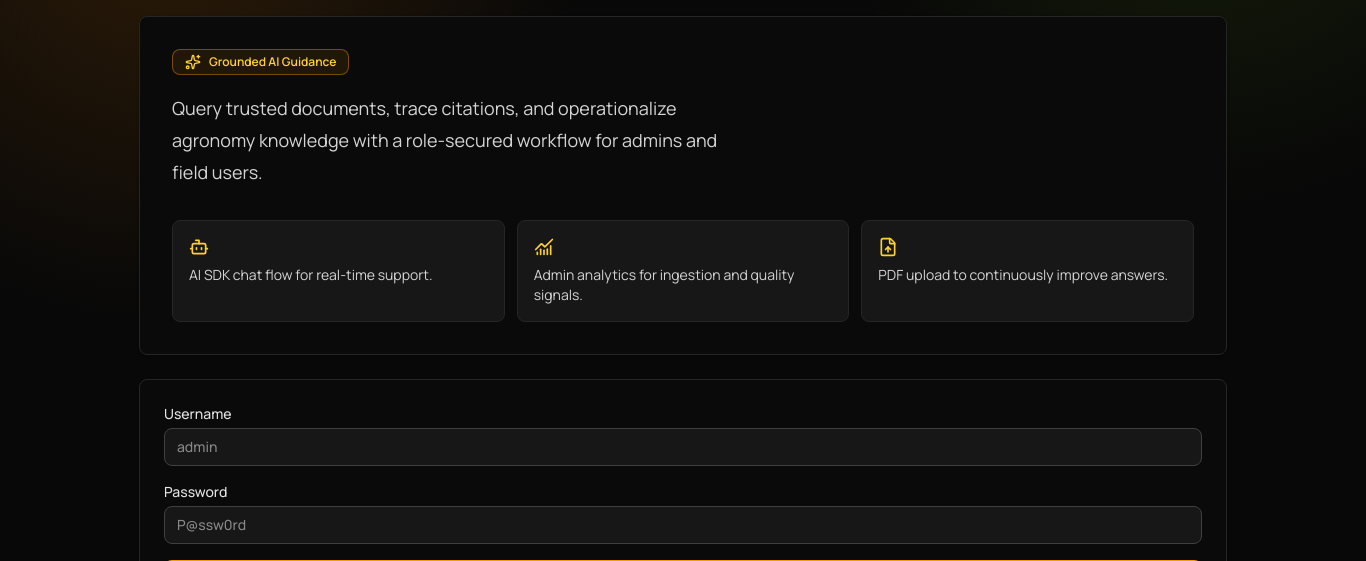
App › routes backend user-role users to chat and history in the same view
Type "field-user" into the field labelled "Username". click: {"x": 683, "y": 447}
box: 164,428 -> 1202,466
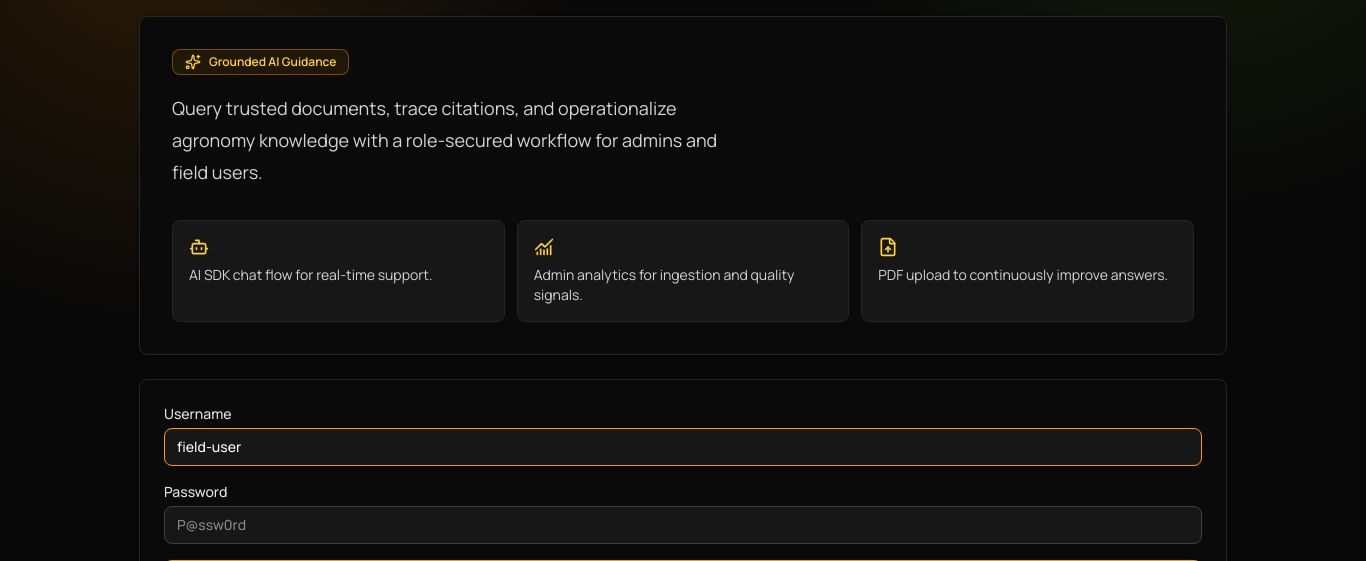
Type "secret" into the password field labelled "Password". click: {"x": 683, "y": 525}
box: 164,506 -> 1202,544
(page scrolled)
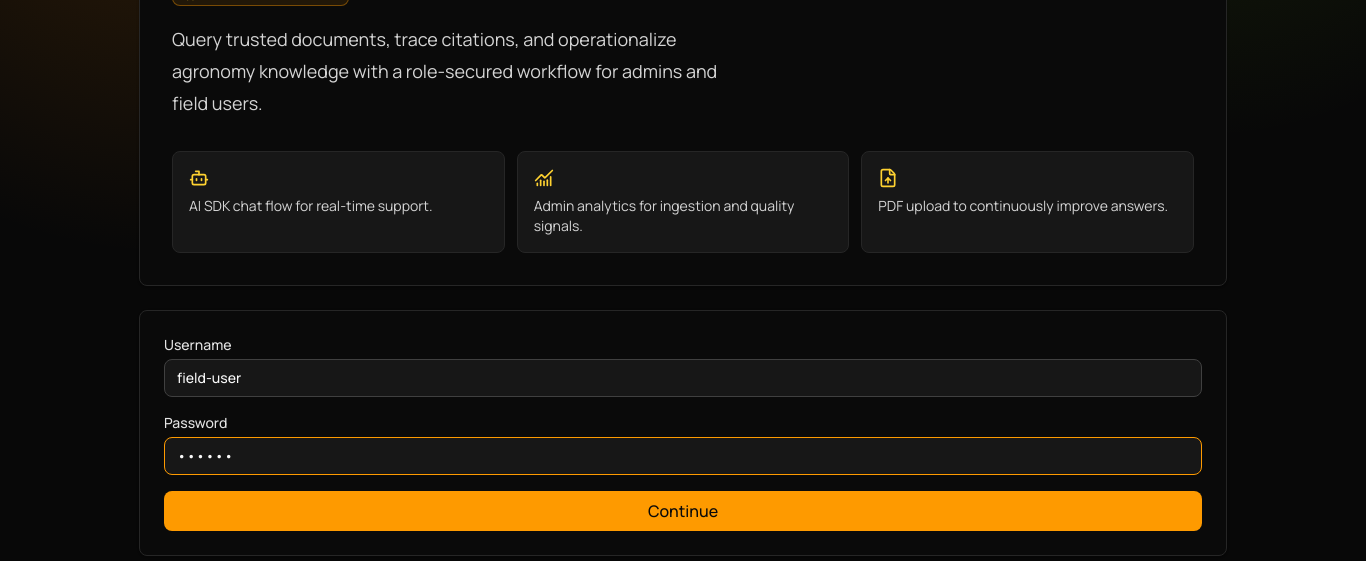
Click the button "Continue". click: {"x": 683, "y": 511}
box: 164,491 -> 1202,531
(page scrolled)
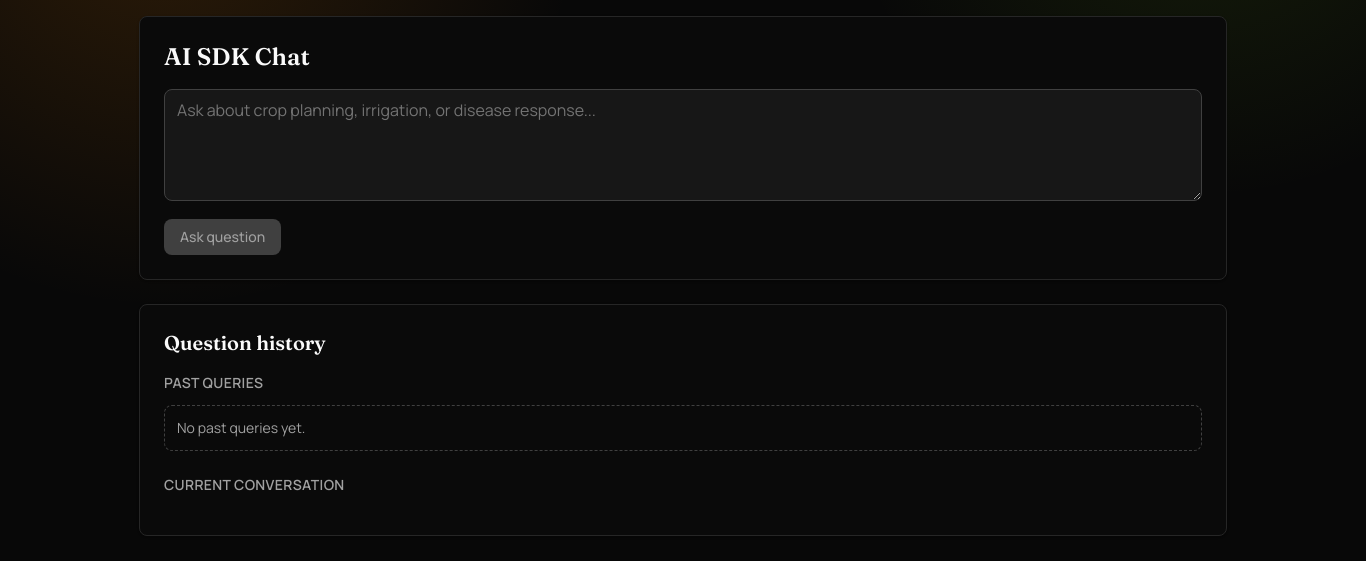
Result: the element named "User workspace" is shown
Result: the element "Question history" is shown at 139,304 -> 1227,536
